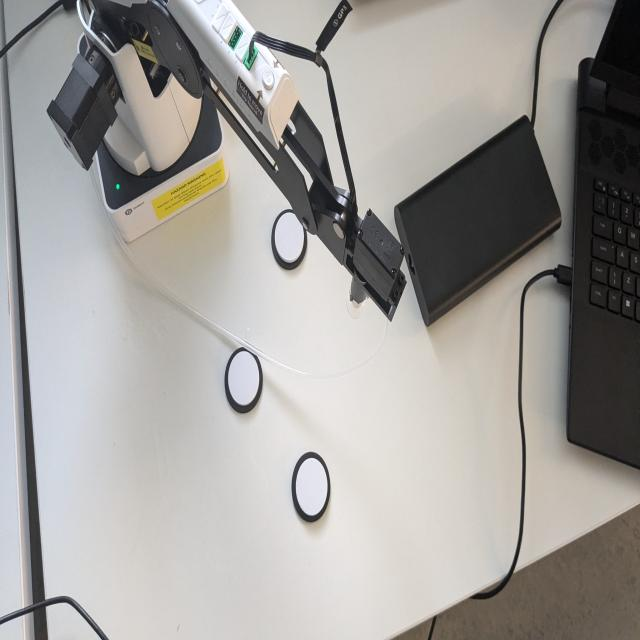Robot-end-effector-HF8z: (343, 204, 407, 326)
